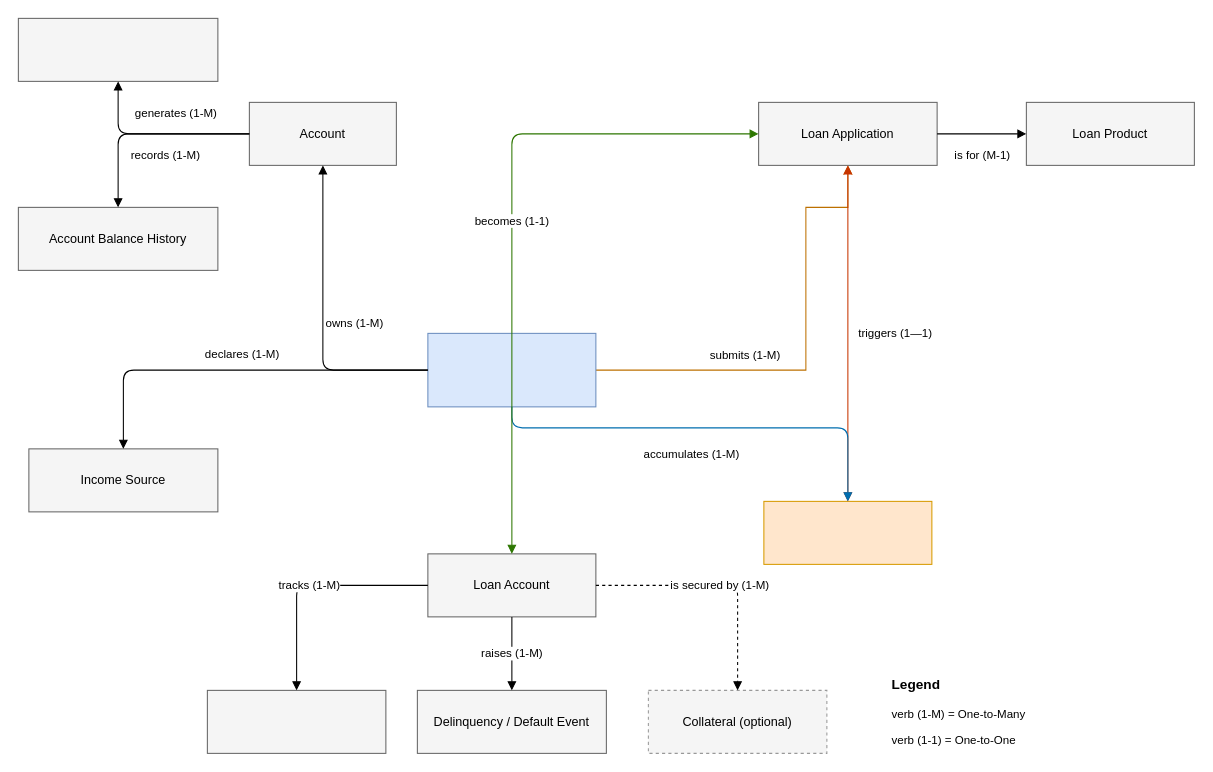
Some shapes in this 1213 by 772 pixel diagram are drawn without their labels. The shapes that lost their labels are listed below. From the top down, each one's box as (x1, y1, x2, y2) in pixels, then its label:
(17, 17, 218, 81): Transaction
(427, 332, 596, 407): Customer
(763, 500, 932, 564): Risk Score
(206, 689, 386, 753): Payment History
